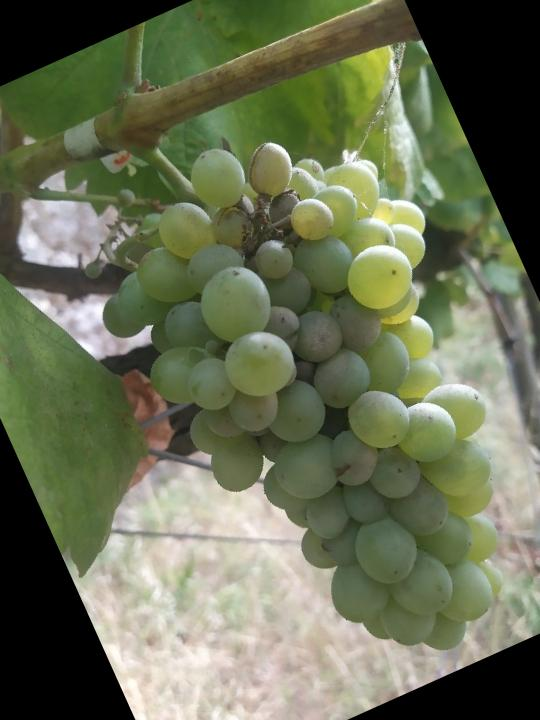grape: (52, 70, 540, 720)
